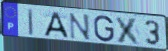3: (143, 19, 161, 46)
A: (42, 11, 70, 39)
G: (93, 14, 116, 43)
I: (28, 8, 35, 37)
N: (68, 12, 92, 42)
X: (114, 15, 143, 46)
